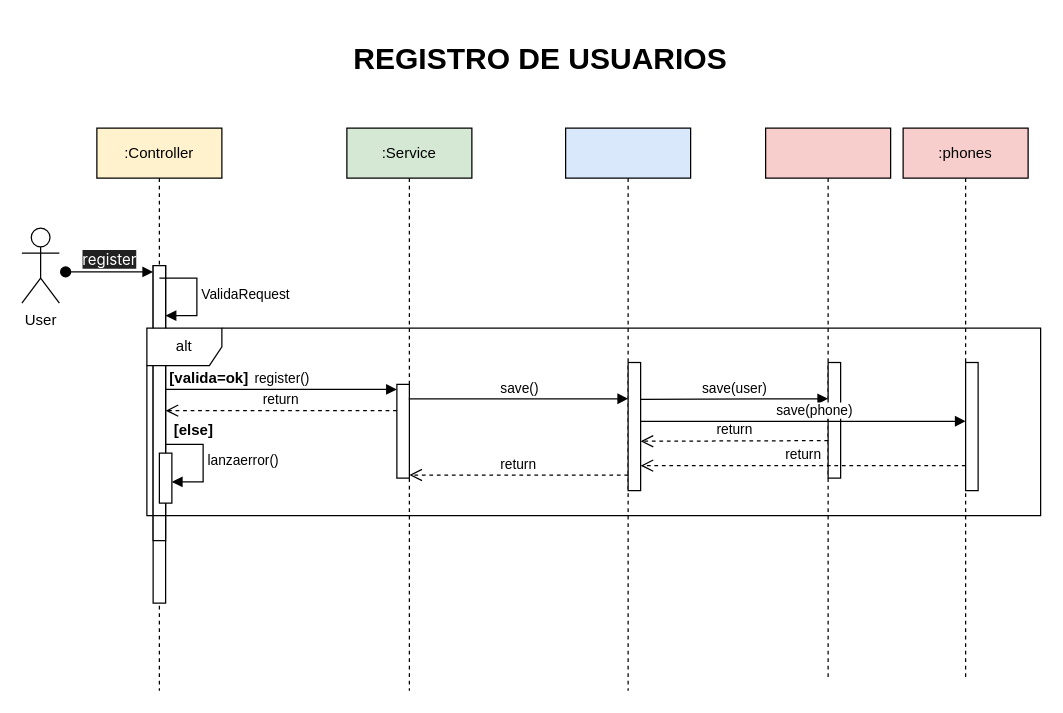
Image size: 1063x713. Some labels were removed from this diagram. The centre of each missing label's shape, as x and y in pixels:
":Repository" goes at point (627, 409).
":users" goes at point (827, 402).
